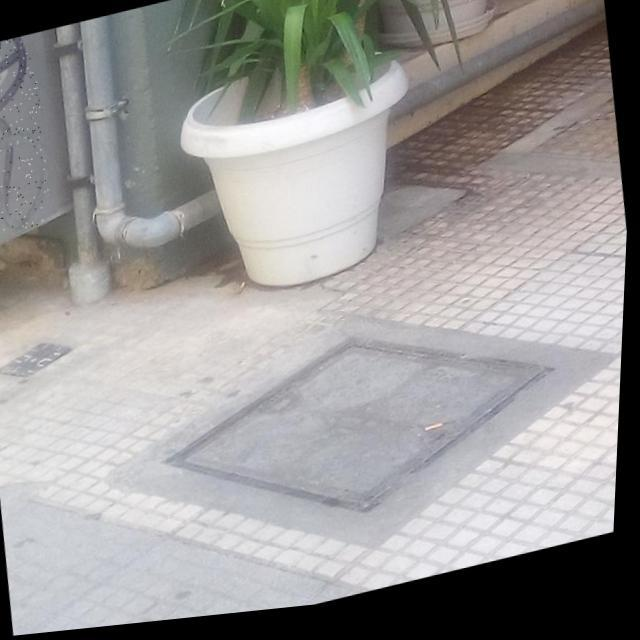-: (0, 32, 60, 240)
